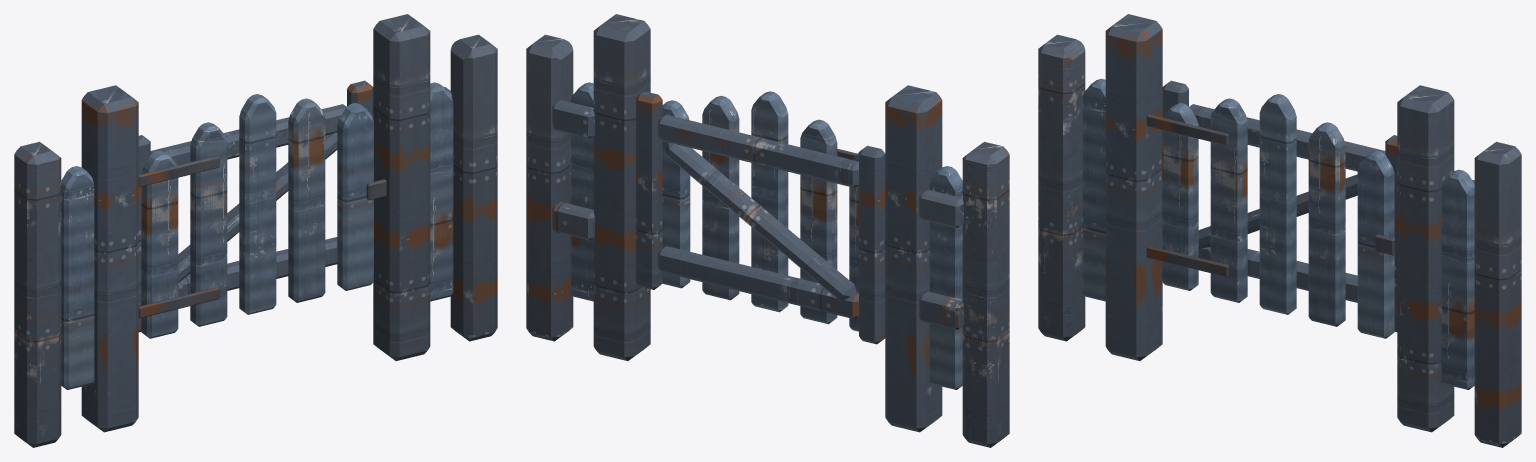
Rendered from bahce_kapisi.glb.
The picture shows the model from 3 angles, left to right: view 1: azimuth 30°, elevation 25°; view 2: azimuth 150°, elevation 25°; view 3: azimuth 330°, elevation 25°; orthographic projection.
Parts seen in each view (by area): view 1: bahce_kapisi, Kanat; view 2: bahce_kapisi, Kanat; view 3: bahce_kapisi, Kanat.
Part boxes in pixels (left/top/right/bottom): bahce_kapisi: left=14, top=14, right=497, bottom=447; Kanat: left=138, top=80, right=386, bottom=338; bahce_kapisi: left=526, top=14, right=1009, bottom=447; Kanat: left=636, top=91, right=885, bottom=344; bahce_kapisi: left=1038, top=14, right=1521, bottom=447; Kanat: left=1146, top=80, right=1397, bottom=338.
Size of the model in its own units: 3 by 2 by 0.28.
Materials: 1 (1 with a texture image).
